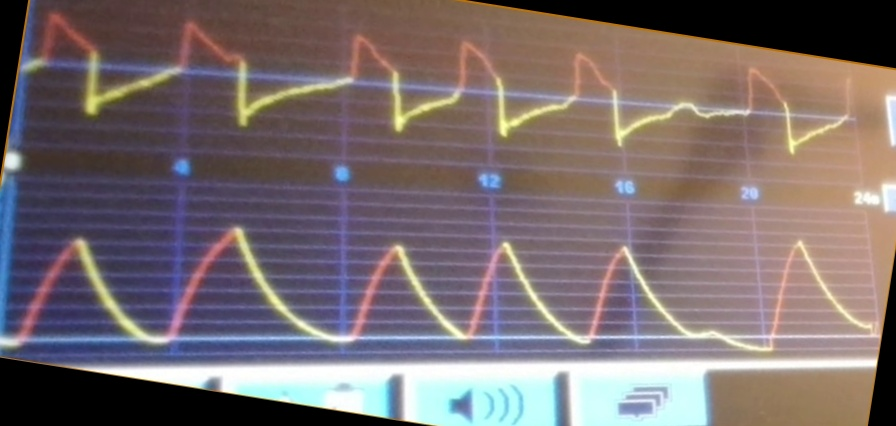Ineffective_effort Flow: (31, 10, 855, 153)
Ineffective_effort Volume: (9, 219, 873, 355)
